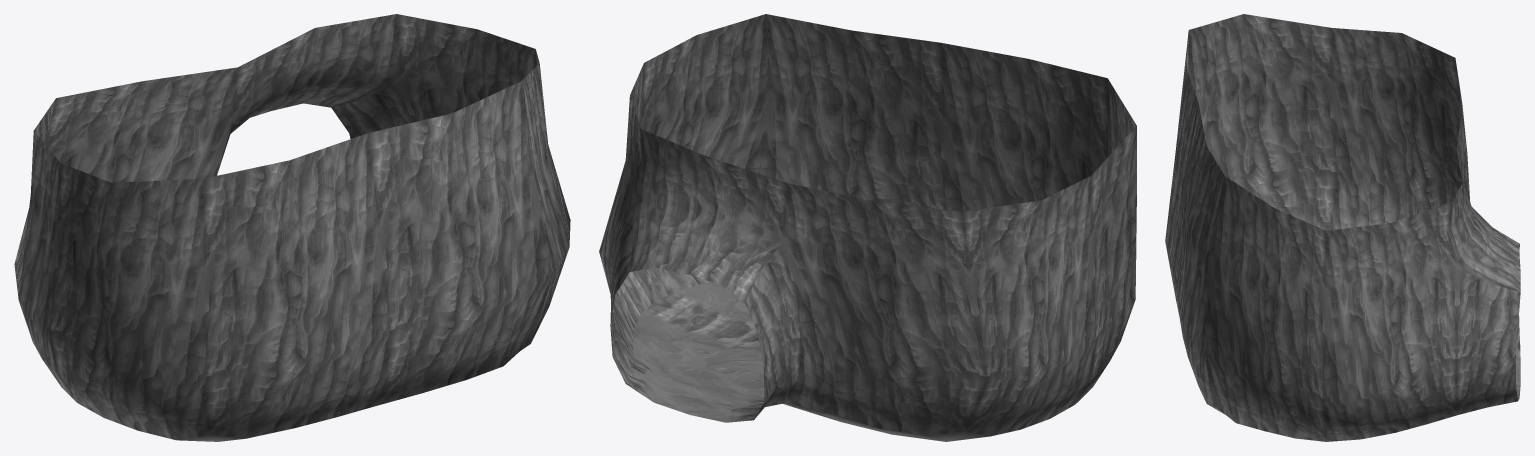
File: SWORDLIGHT20_PS-AREA03-04TRANS_02.obj
3 renders of one model, left to right at view 1: azimuth 30°, elevation 25°; view 2: azimuth 150°, elevation 25°; view 3: azimuth 270°, elevation 25°, orthographic. The views are drawn at different scales.
Parts seen in each view (by area): view 1: ea03-04Trans_02; view 2: ea03-04Trans_02; view 3: ea03-04Trans_02.
Part boxes in pixels (left/top/right/bottom): ea03-04Trans_02: left=14, top=14, right=570, bottom=441; ea03-04Trans_02: left=599, top=14, right=1136, bottom=441; ea03-04Trans_02: left=1165, top=14, right=1520, bottom=441.
Size of the model in its own units: 2153 by 1145 by 1456.
